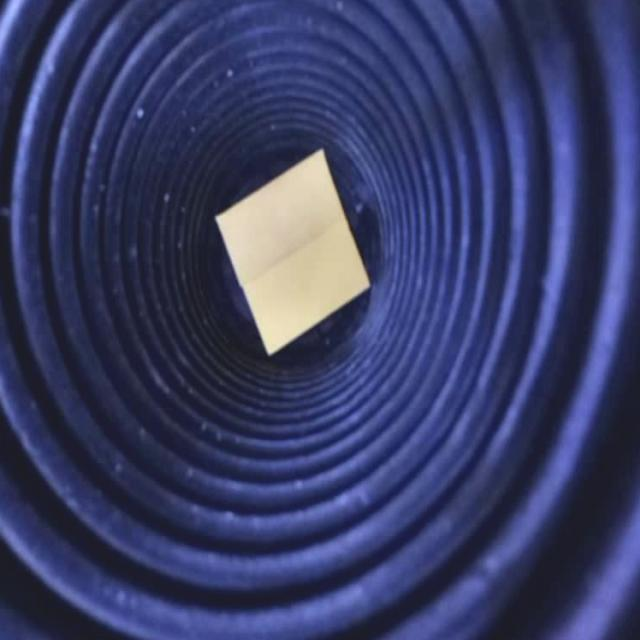obstacles: (213, 147, 376, 350)
